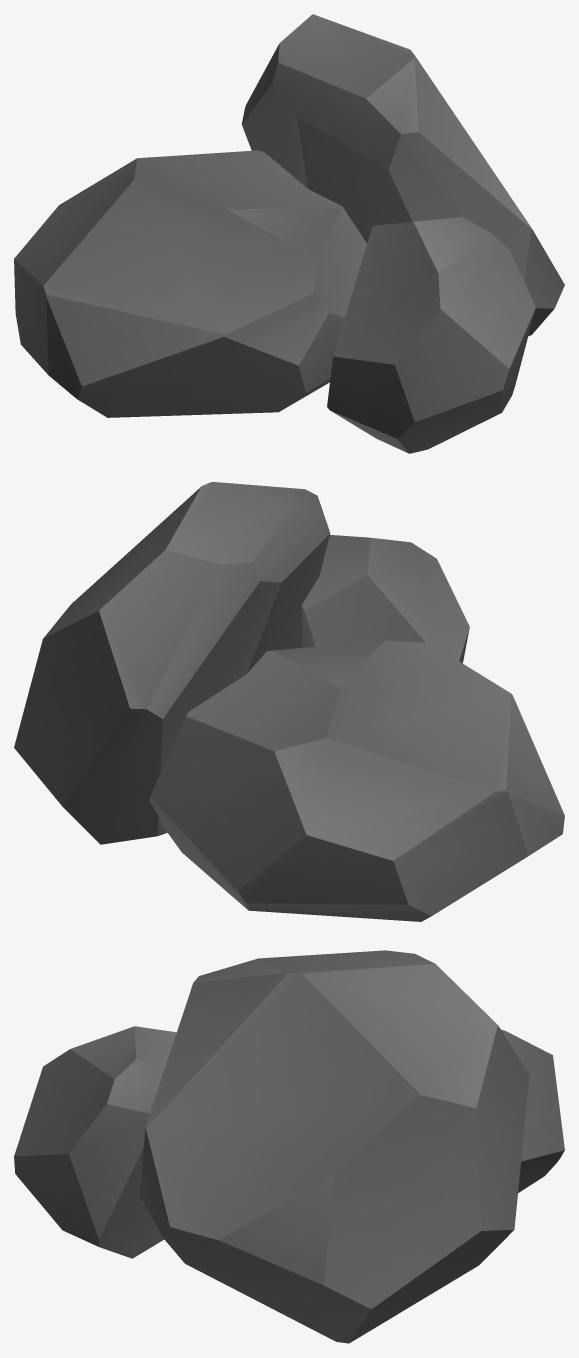
File: pack02_rocks_06.fbx
3 renders of one model, top to bottom at view 1: azimuth 30°, elevation 25°; view 2: azimuth 150°, elevation 25°; view 3: azimuth 270°, elevation 25°, orthographic. The views are drawn at different scales.
Parts seen in each view (by area): view 1: Rock Type2 02 mesh; view 2: Rock Type2 02 mesh; view 3: Rock Type2 02 mesh.
Boxes of the visible parts, x1,y1,x2,y2 form: Rock Type2 02 mesh: (14, 14, 564, 453); Rock Type2 02 mesh: (14, 482, 564, 921); Rock Type2 02 mesh: (14, 950, 564, 1343).
Size of the model in its own units: 181 by 126 by 188.
Materials: 1 (1 with a texture image).
